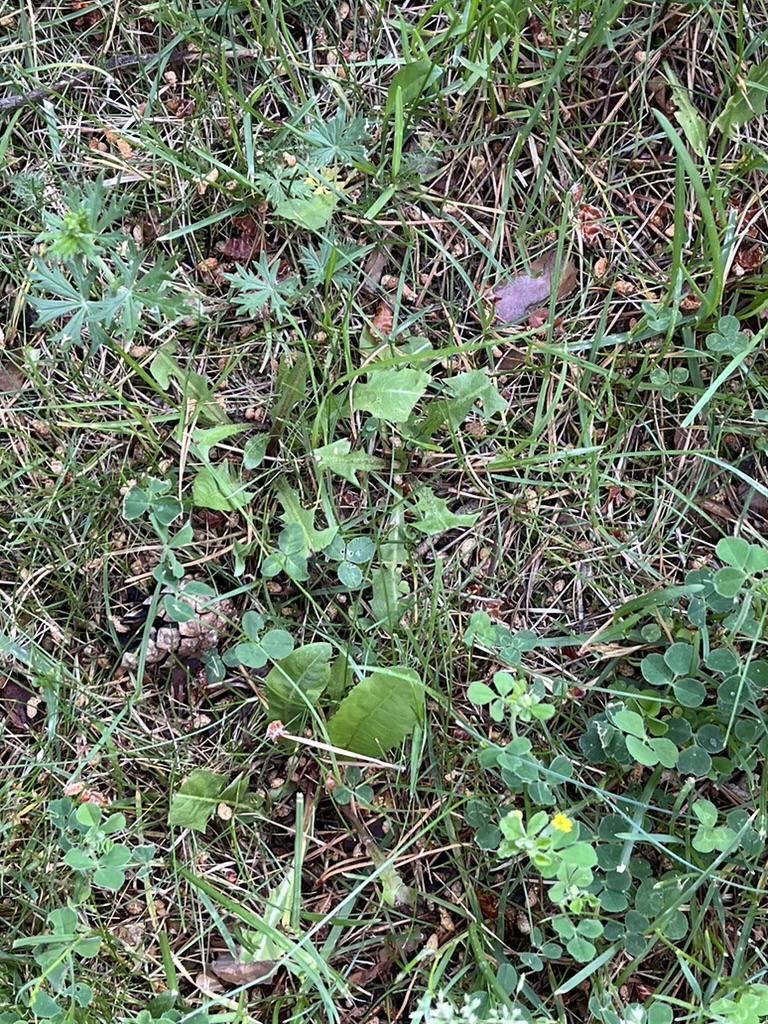pine: (104, 558, 244, 720)
